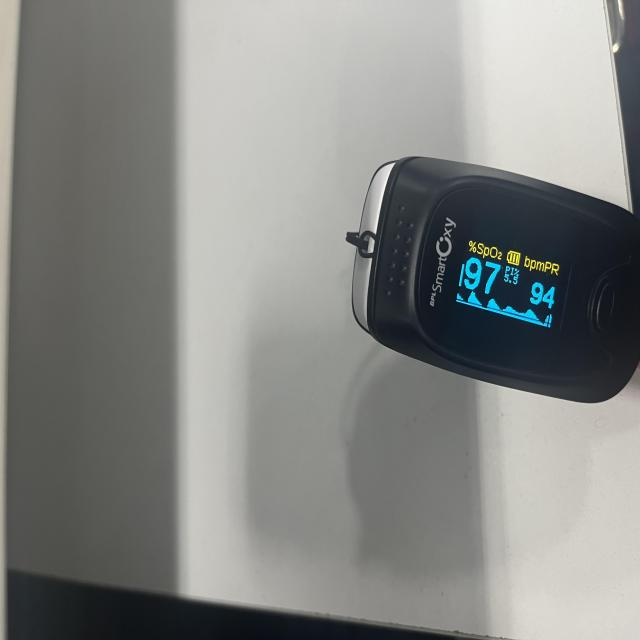spo2: (347, 158, 640, 407)
